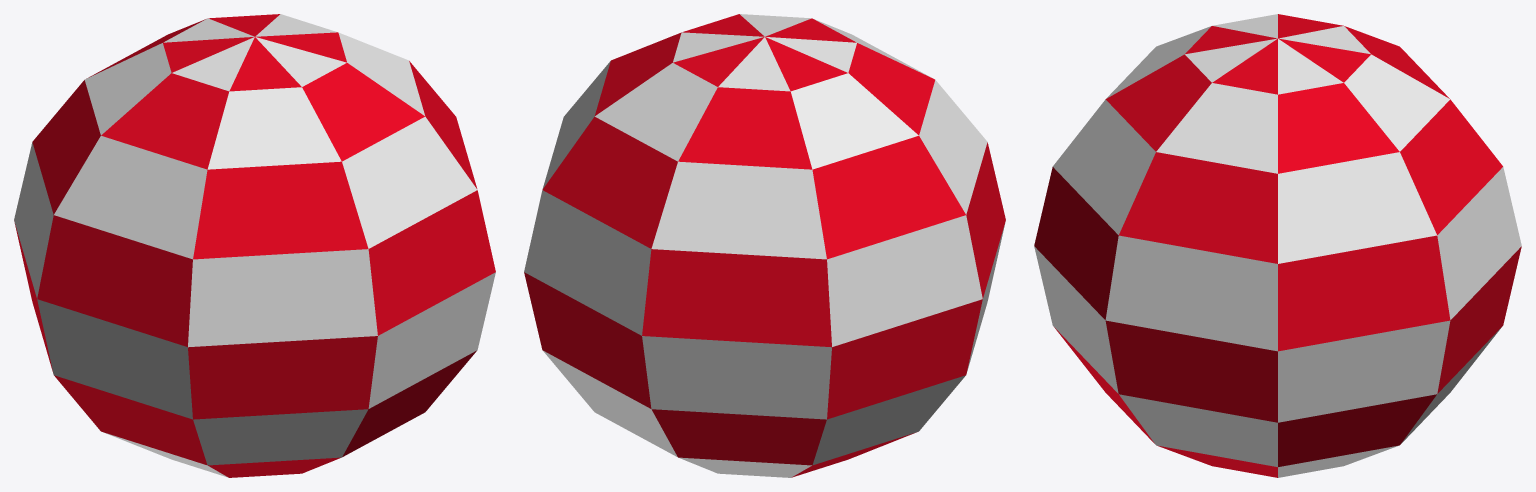
The picture shows the model from 3 angles, left to right: view 1: azimuth 30°, elevation 25°; view 2: azimuth 150°, elevation 25°; view 3: azimuth 270°, elevation 25°; orthographic projection.
Visible parts, largest first — view 1: Sphere; view 2: Sphere; view 3: Sphere.
Boxes of the visible parts, bbox=[...] form: Sphere: bbox=[14, 14, 495, 477]; Sphere: bbox=[524, 14, 1005, 477]; Sphere: bbox=[1034, 14, 1521, 477].
Bounding box in the file's own units: 346 × 317 × 338.
